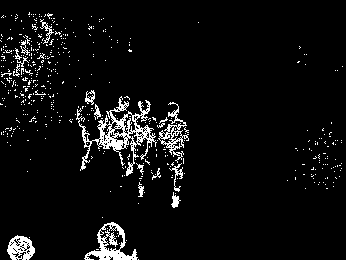person: (133, 99, 160, 197), (165, 102, 189, 212), (102, 93, 130, 177), (72, 89, 100, 170)
